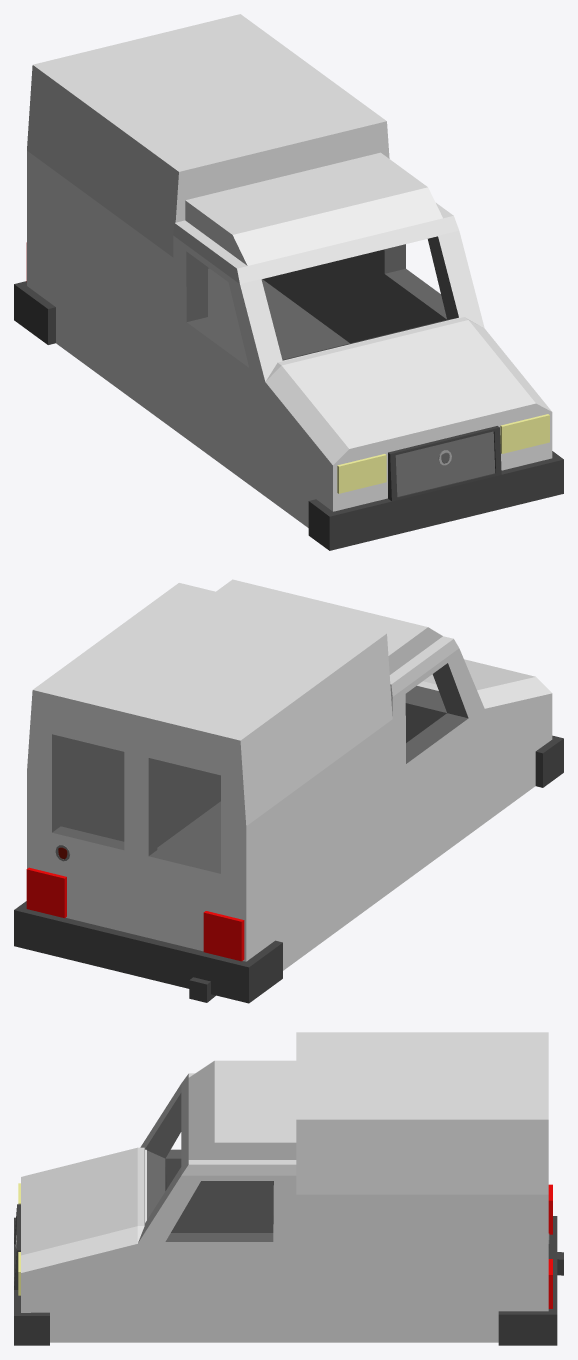
File: Florino.fbx
3 views of the same model, one above another, from view 1: azimuth 30°, elevation 25°; view 2: azimuth 150°, elevation 25°; view 3: azimuth 270°, elevation 25° (orthographic). The views are drawn at different scales.
Visible parts, largest first — view 1: Cube; view 2: Cube; view 3: Cube.
Part boxes in pixels (left/top/right/bottom): Cube: left=14, top=14, right=563, bottom=550; Cube: left=14, top=579, right=563, bottom=1003; Cube: left=14, top=1032, right=563, bottom=1345.
Bounding box in the file's own units: 260 × 277 × 611.
Materials: 6 (1 with a texture image).
